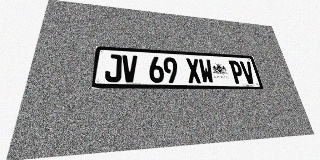6: (149, 56, 164, 83)
9: (163, 57, 179, 83)
J: (104, 54, 122, 82)
P: (228, 60, 245, 84)
V: (122, 55, 137, 82), (239, 61, 256, 84)
W: (198, 59, 215, 83)
X: (185, 58, 202, 83)
